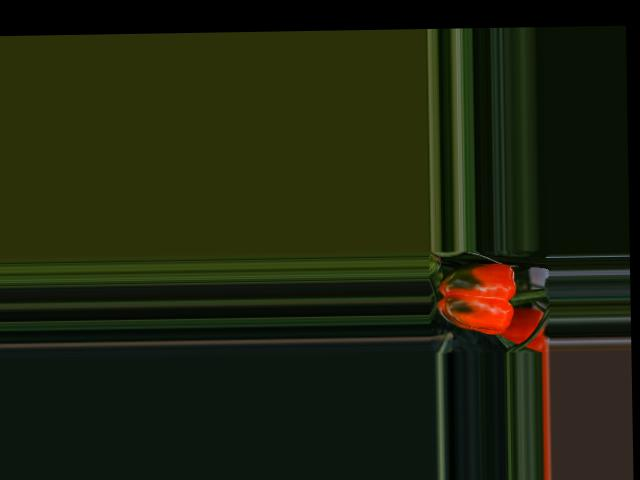bell_pepper: (430, 253, 525, 338)
